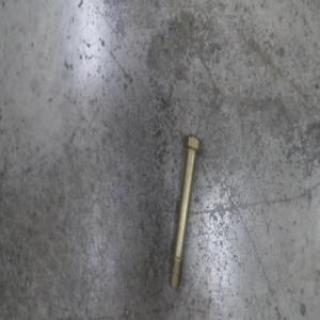Bolttrack_idkeyframe: (167, 133, 200, 289)
